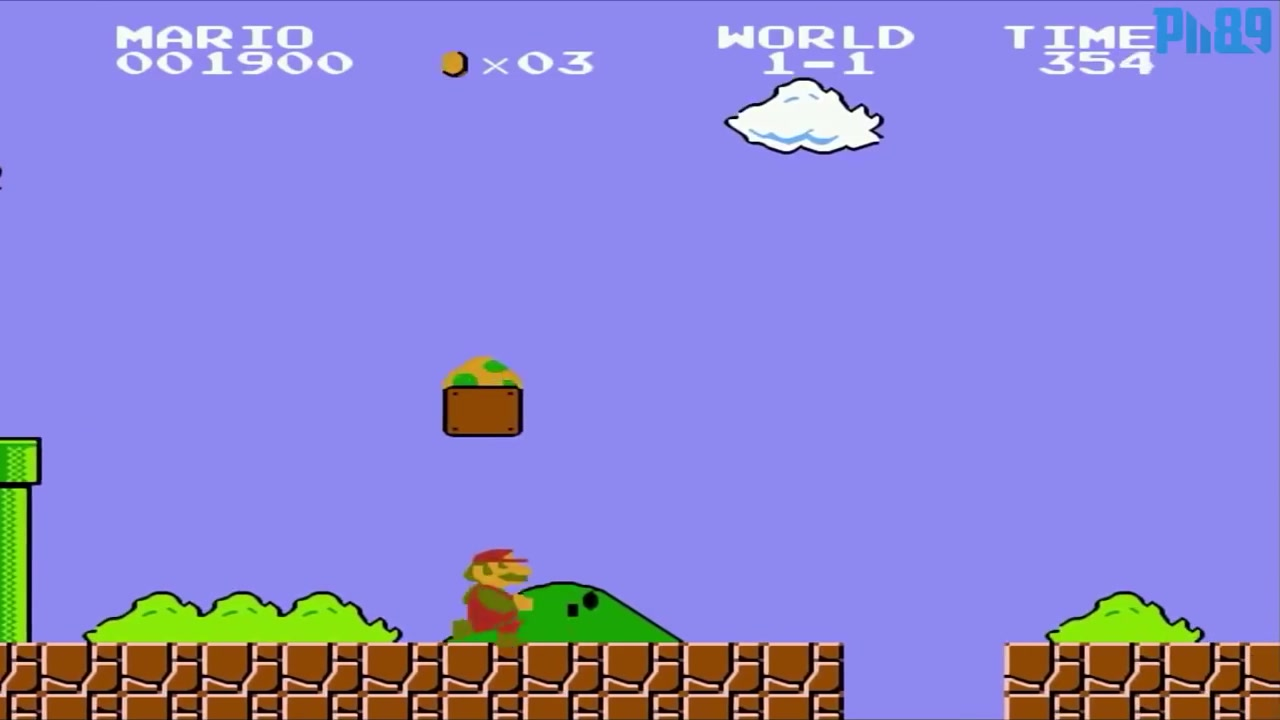mario: (448, 542, 530, 646)
